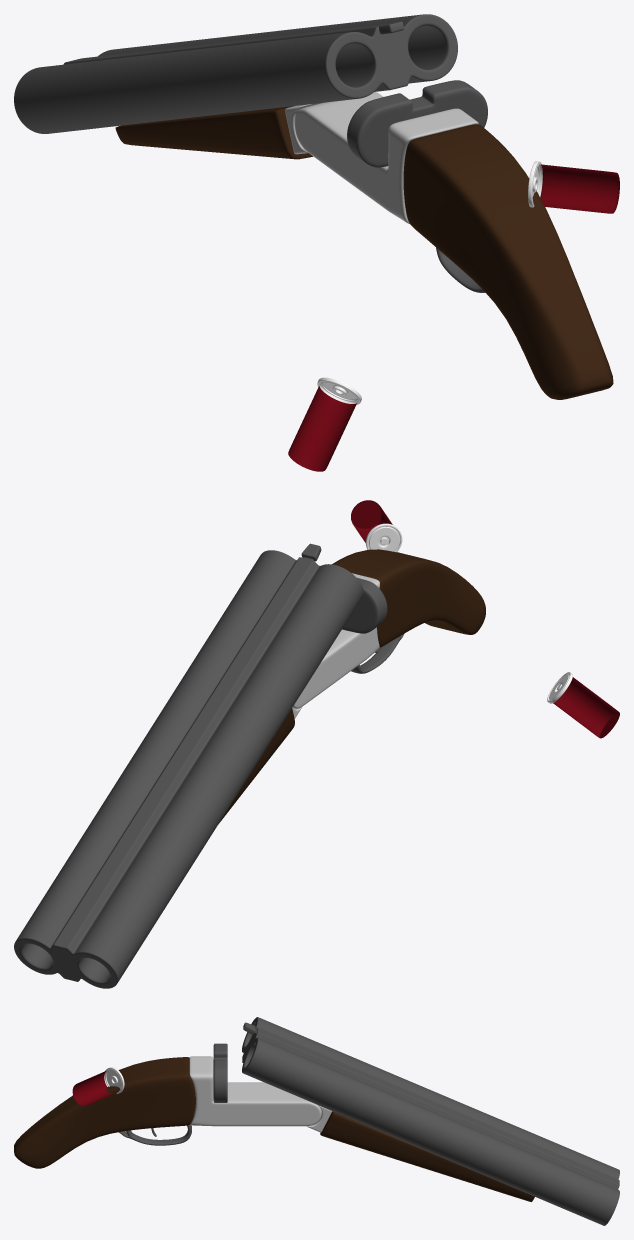
The model's file is SHOTGUNPLACEHHOLDER444.fbx.
3 renders of one model, top to bottom at view 1: azimuth 30°, elevation 25°; view 2: azimuth 150°, elevation 25°; view 3: azimuth 270°, elevation 25°, orthographic. The views are drawn at different scales.
Visible parts, largest first — view 1: Circle.001, Circle.008, Circle.003, Circle.005, Circle.004, Circle.006, Circle.010; view 2: Circle.001, Circle.008, Circle.003, Circle.006, Circle.010, Circle.004, Circle.005; view 3: Circle.001, Circle.008, Circle.003, Circle.005, Circle.010, Circle.004, Circle.009.
Part boxes in pixels (x1,y1,x2,y2): Circle.001: (14, 14, 457, 133); Circle.008: (403, 124, 613, 399); Circle.003: (294, 92, 478, 223); Circle.005: (115, 106, 312, 159); Circle.004: (347, 80, 487, 167); Circle.006: (288, 377, 361, 471); Circle.010: (528, 161, 619, 213); Circle.001: (14, 543, 363, 988); Circle.008: (332, 549, 485, 647); Circle.003: (293, 573, 379, 708); Circle.006: (547, 672, 619, 738); Circle.010: (351, 500, 402, 552); Circle.004: (342, 578, 387, 633); Circle.005: (219, 708, 294, 823); Circle.001: (242, 1017, 619, 1225); Circle.008: (14, 1057, 195, 1168); Circle.003: (189, 1056, 321, 1126); Circle.005: (320, 1111, 534, 1201); Circle.010: (72, 1067, 124, 1106); Circle.004: (213, 1043, 227, 1102); Circle.009: (119, 1124, 191, 1145).
Bounding box in the file's own units: 544 × 510 × 1478.
